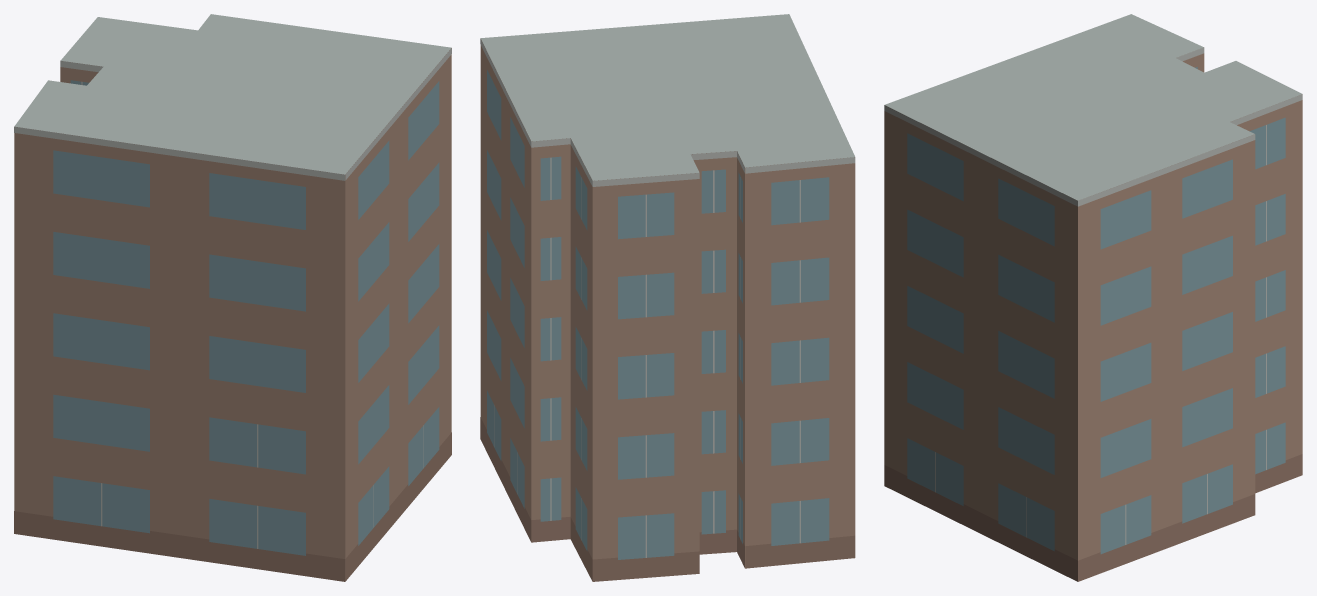
Rendered from survey-upis-32691634.glb.
The picture shows the model from 3 angles, left to right: view 1: azimuth 30°, elevation 25°; view 2: azimuth 150°, elevation 25°; view 3: azimuth 270°, elevation 25°; orthographic projection. The views are drawn at different scales.
Parts seen in each view (by area): view 1: survey-upis-32691634.tmp; view 2: survey-upis-32691634.tmp; view 3: survey-upis-32691634.tmp.
Part boxes in pixels (x1=…): survey-upis-32691634.tmp: x1=14, y1=14, x2=451, y2=581; survey-upis-32691634.tmp: x1=480, y1=14, x2=855, y2=581; survey-upis-32691634.tmp: x1=884, y1=14, x2=1302, y2=581.
Size of the model in its own units: 16.62 by 15.8 by 15.73.
